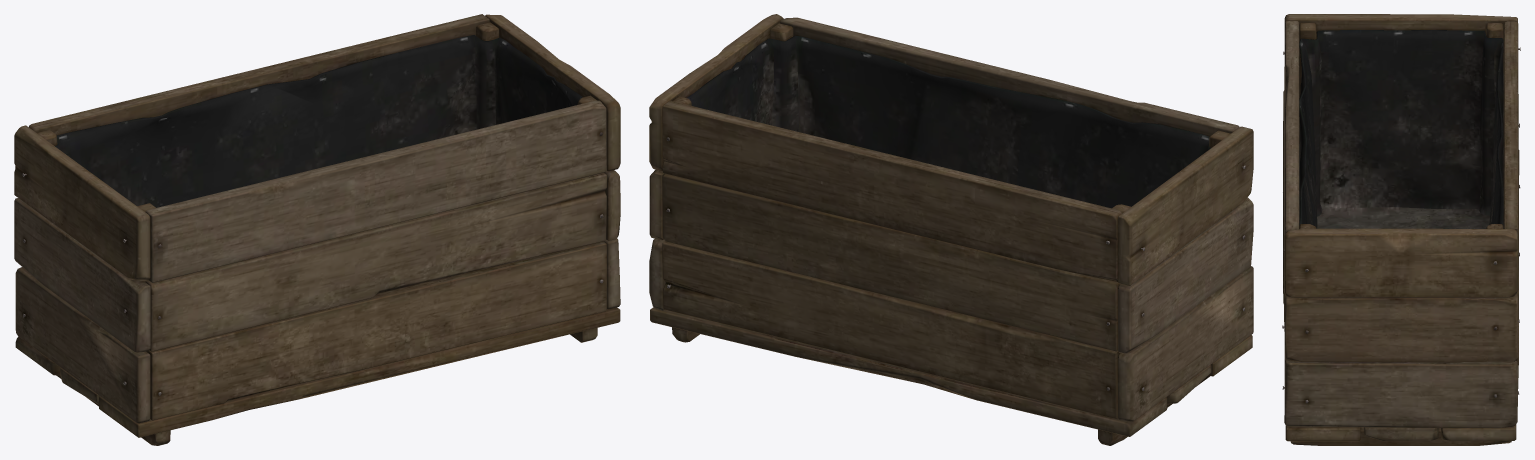
File: planter_box_01.glb
3 views of the same model, side by side, from view 1: azimuth 30°, elevation 25°; view 2: azimuth 150°, elevation 25°; view 3: azimuth 270°, elevation 25° (orthographic). The views are drawn at different scales.
Parts seen in each view (by area): view 1: planter_box_01; view 2: planter_box_01; view 3: planter_box_01.
Boxes of the visible parts, x1=… form: planter_box_01: x1=14, y1=14, x2=620, y2=445; planter_box_01: x1=649, y1=14, x2=1253, y2=445; planter_box_01: x1=1282, y1=14, x2=1520, y2=445.
Size of the model in its own units: 0.9126 by 0.4249 by 0.4137.
1 material, 1 textured.
